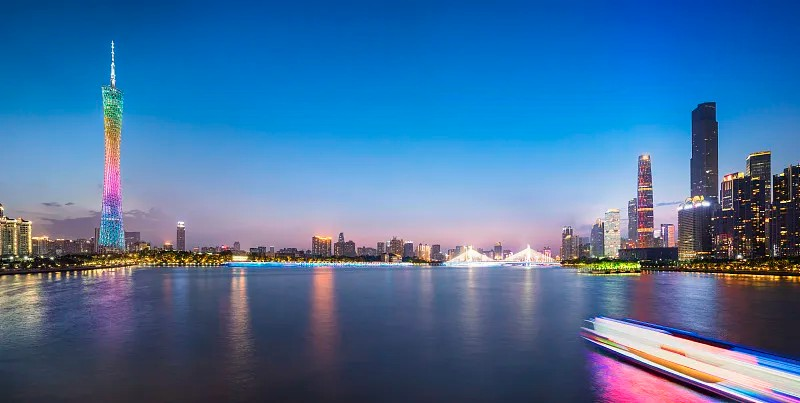Canton: (96, 39, 128, 254)
